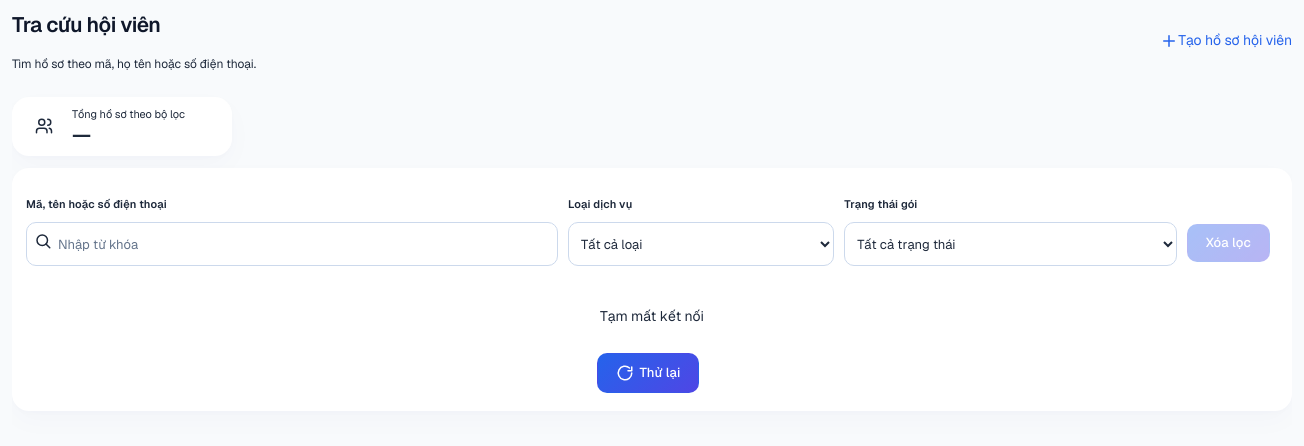
Scenario: US-11 TC14: list debounce, stale responses, pagination, error/retry and detail integration › keeps errors separate from empty results and retries with the active filter
Expected: the message "Tạm mất kết nối Thử lại" is shown, [597,307,704,393]
Expected: the text "Chưa có hồ sơ hội viên." is not shown
Click the button "Thử lại" at (648, 373), box [597,353,699,393]
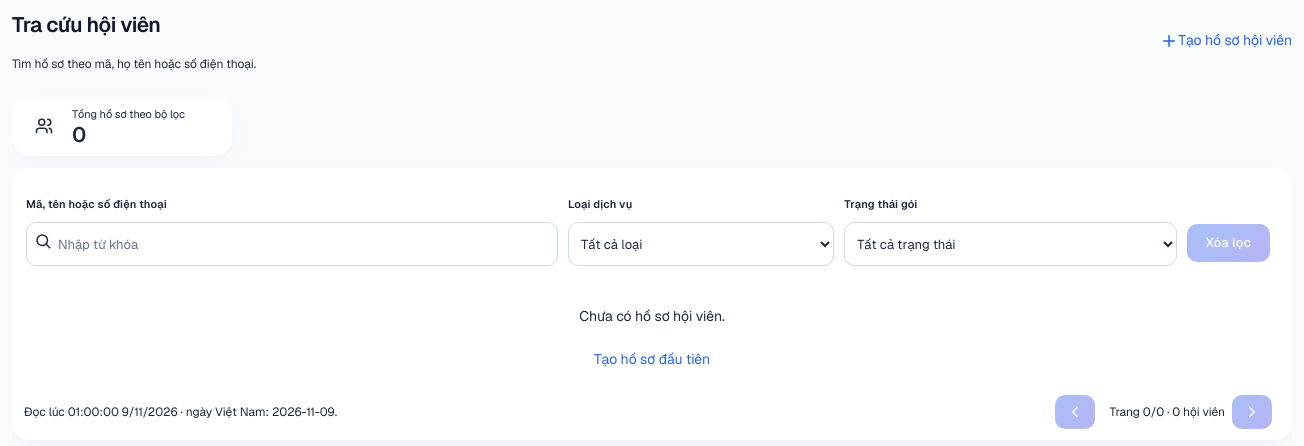
Now the text "Chưa có hồ sơ hội viên." is shown, box [579,306,725,327]
